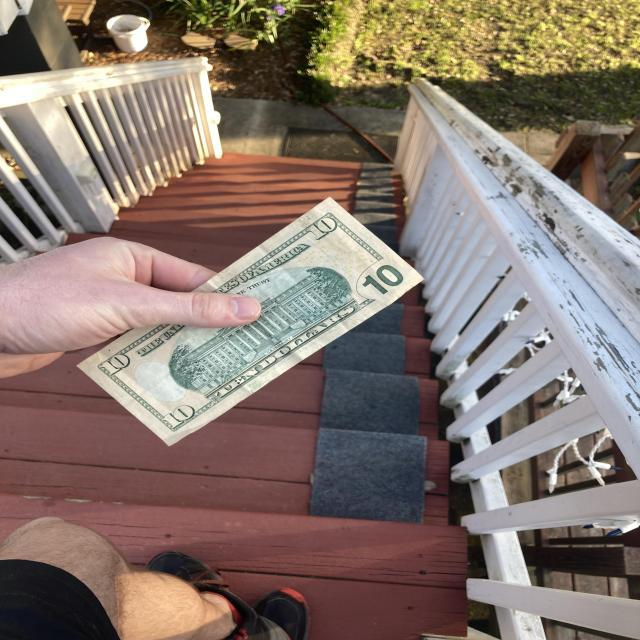ten: (77, 196, 427, 445)
